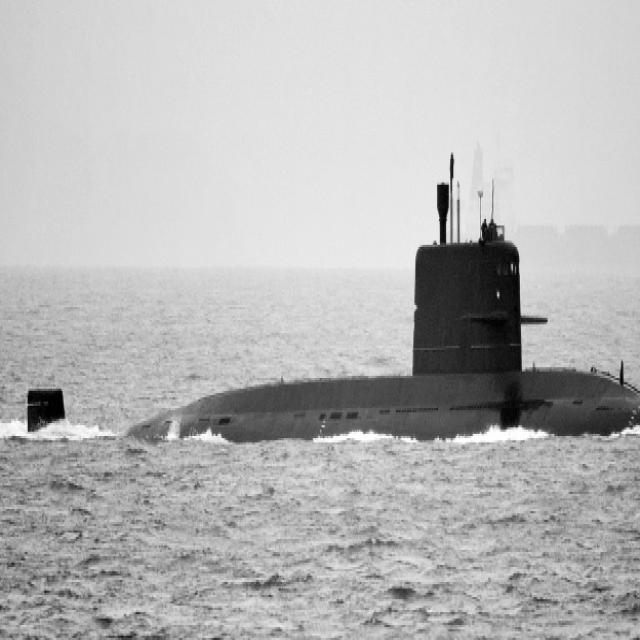submarine: (26, 235, 640, 426)
